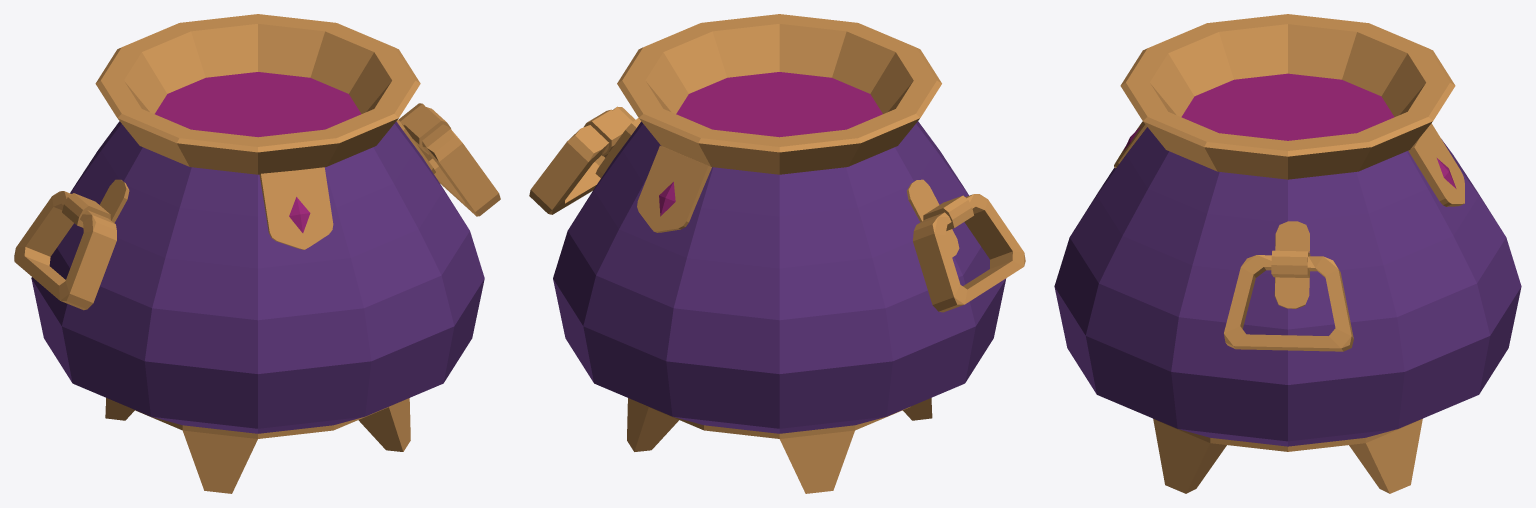
Rendered from Caldeirão.fbx.
The picture shows the model from 3 angles, left to right: view 1: azimuth 30°, elevation 25°; view 2: azimuth 150°, elevation 25°; view 3: azimuth 270°, elevation 25°; orthographic projection. The views are drawn at different scales.
Parts seen in each view (by area): view 1: Caldeirao; view 2: Caldeirao; view 3: Caldeirao.
Boxes of the visible parts, <box> form: Caldeirao: <box>14,14,500,493</box>; Caldeirao: <box>529,14,1025,493</box>; Caldeirao: <box>1054,14,1521,493</box>.
Size of the model in its own units: 200 by 151 by 177.
